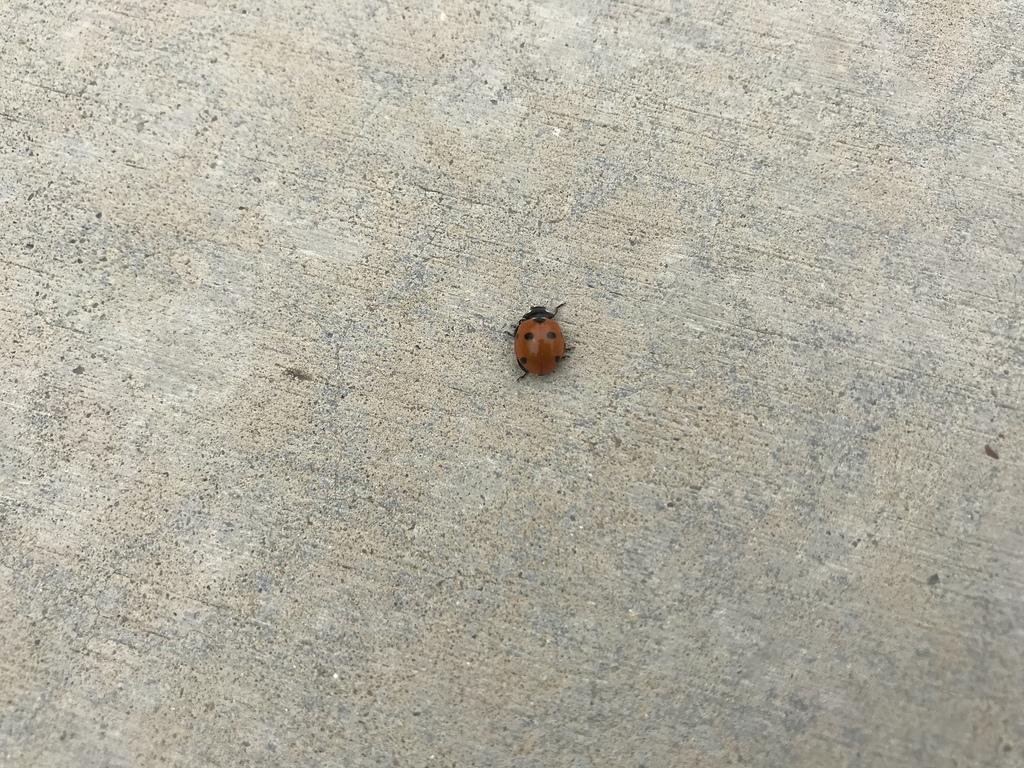ladybug: (499, 299, 583, 389)
